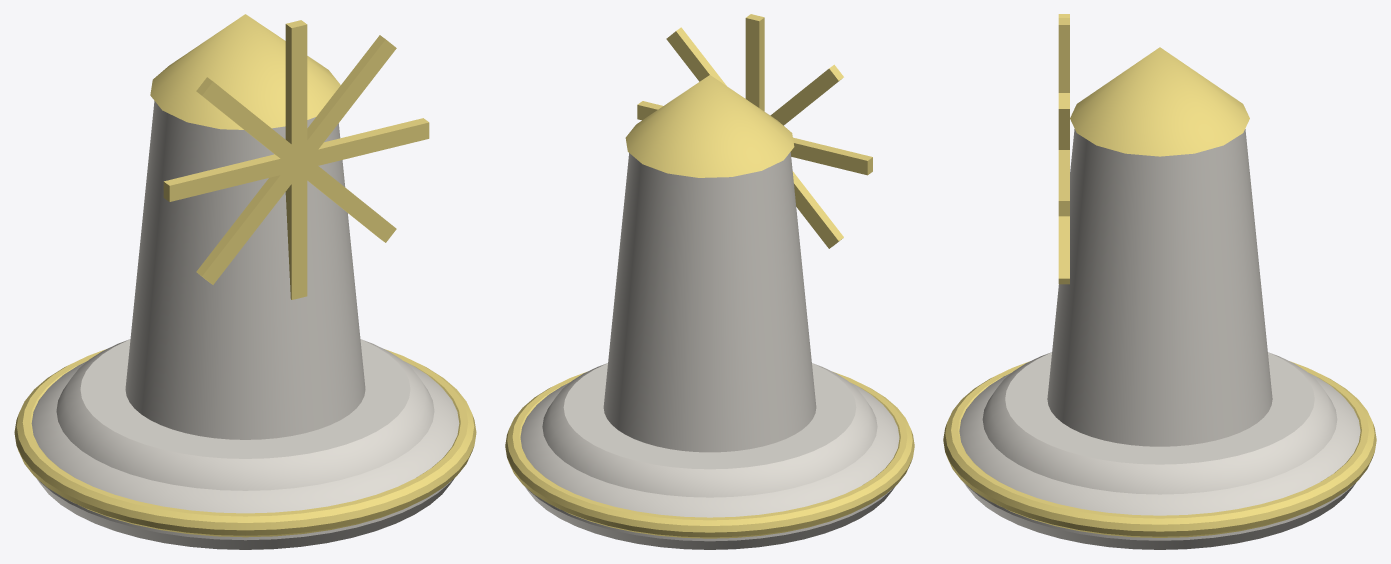
The model's file is Santorini_Torre.fbx.
3 views of the same model, side by side, from view 1: azimuth 30°, elevation 25°; view 2: azimuth 150°, elevation 25°; view 3: azimuth 270°, elevation 25° (orthographic). The views are drawn at different scales.
Visible parts, largest first — view 1: Santorini_Torre; view 2: Santorini_Torre; view 3: Santorini_Torre.
Part boxes in pixels (<box>): Santorini_Torre: <box>14,14,476,549</box>; Santorini_Torre: <box>505,14,914,549</box>; Santorini_Torre: <box>943,14,1376,549</box>.
Size of the model in its own units: 0.77 by 0.87 by 0.77.
